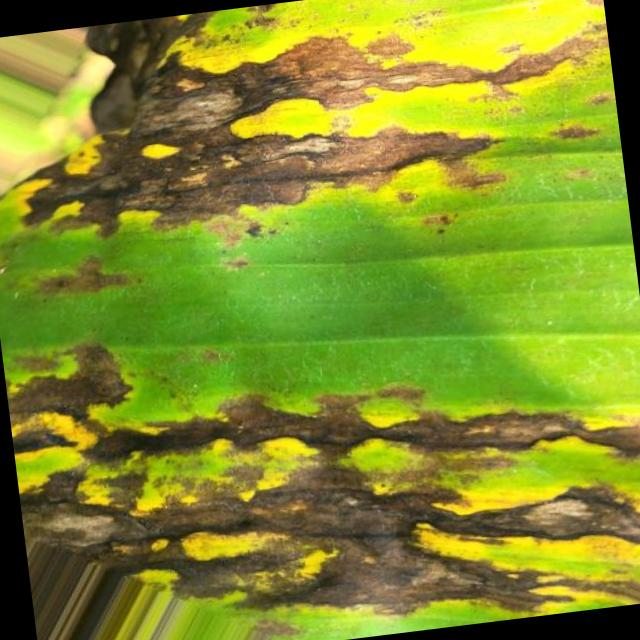Banana_Black_Sigatoka: (0, 257, 640, 640), (10, 0, 613, 279)
